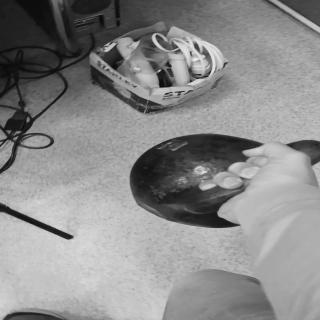girya: (131, 135, 320, 229)
